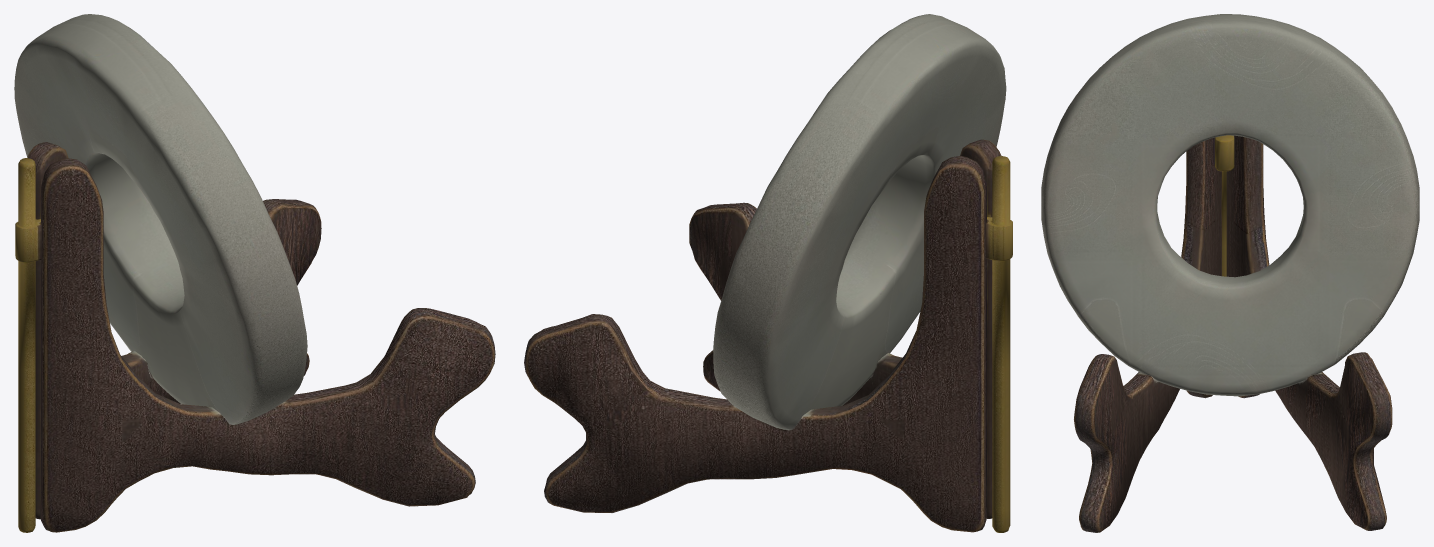
The model's file is tripo_convert_e00de927-3a4e-48ee-900b-1b5ba1adca9f.fbx.
3 renders of one model, left to right at view 1: azimuth 30°, elevation 25°; view 2: azimuth 150°, elevation 25°; view 3: azimuth 270°, elevation 25°, orthographic. The views are drawn at different scales.
Parts seen in each view (by area): view 1: tripo_node_e00de927; view 2: tripo_node_e00de927; view 3: tripo_node_e00de927.
Part boxes in pixels (x1,y1,x2,y2): tripo_node_e00de927: [14, 14, 495, 532]; tripo_node_e00de927: [524, 14, 1012, 532]; tripo_node_e00de927: [1041, 14, 1419, 532].
Size of the model in its own units: 0.8809 by 0.998 by 0.8418.
1 material, 1 textured.
